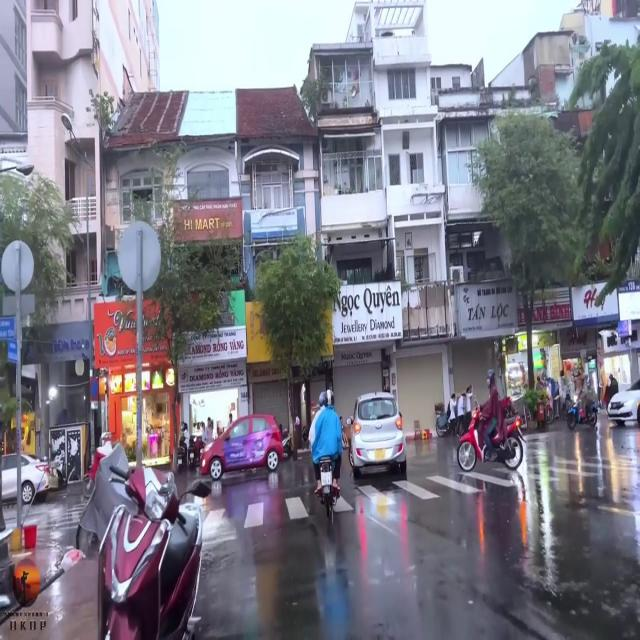bien_vang: (373, 448, 387, 462)
